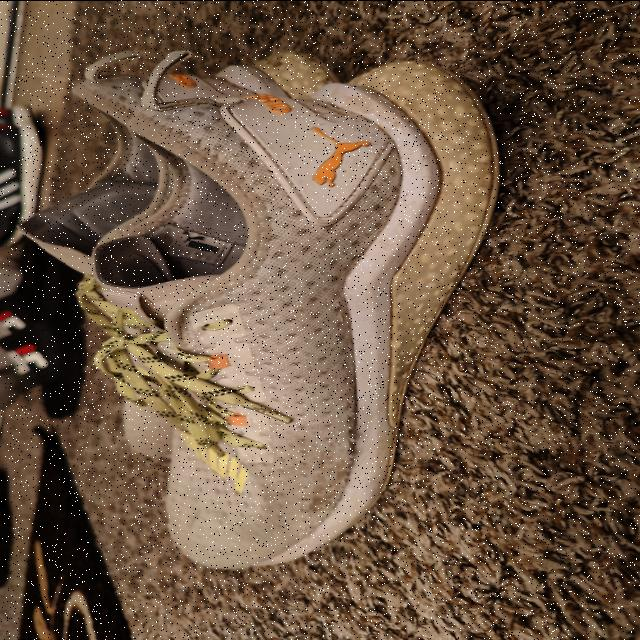white shoes: (95, 58, 455, 534)
